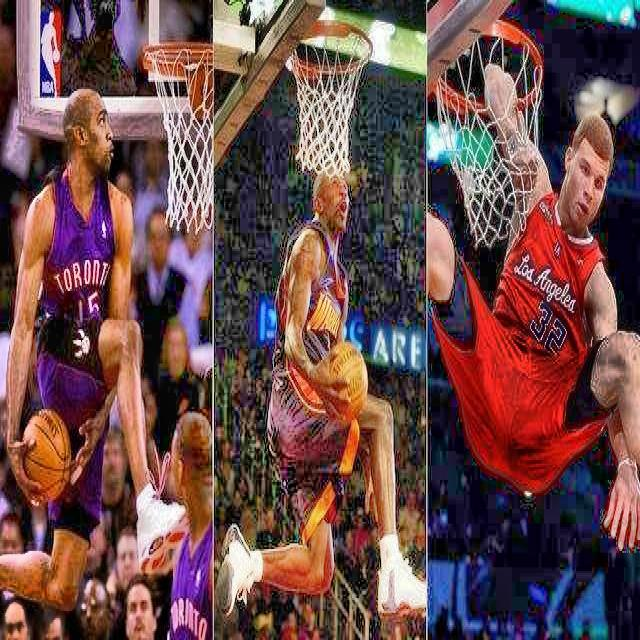board: (24, 408, 70, 505)
rim: (436, 20, 544, 242), (142, 40, 214, 231), (296, 20, 374, 175)
